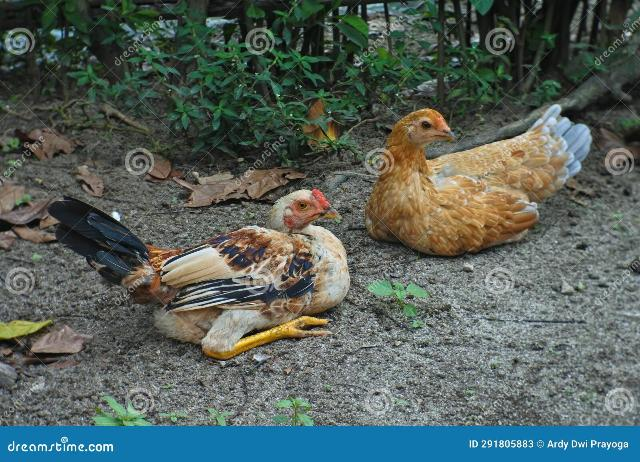Chicken: (46, 188, 352, 358), (367, 103, 594, 259)
